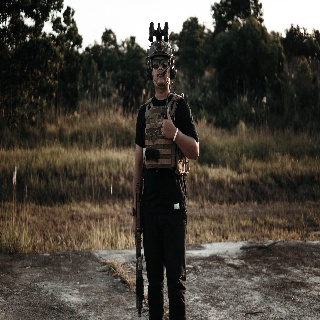rifle: (132, 158, 148, 318)
